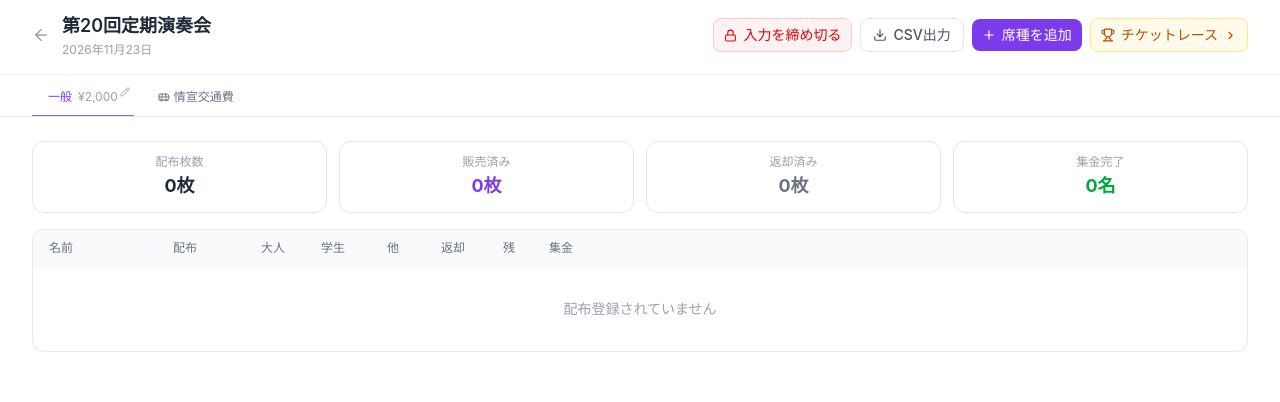
Test case: TicketDetailPage（締切バナー・締切/再開ボタン） › 「入力を締め切る」クリックでcloseTicketInputが呼ばれバナーが表示される
Click the button "入力を締め切る" at (783, 35), box [713,18,852,52]
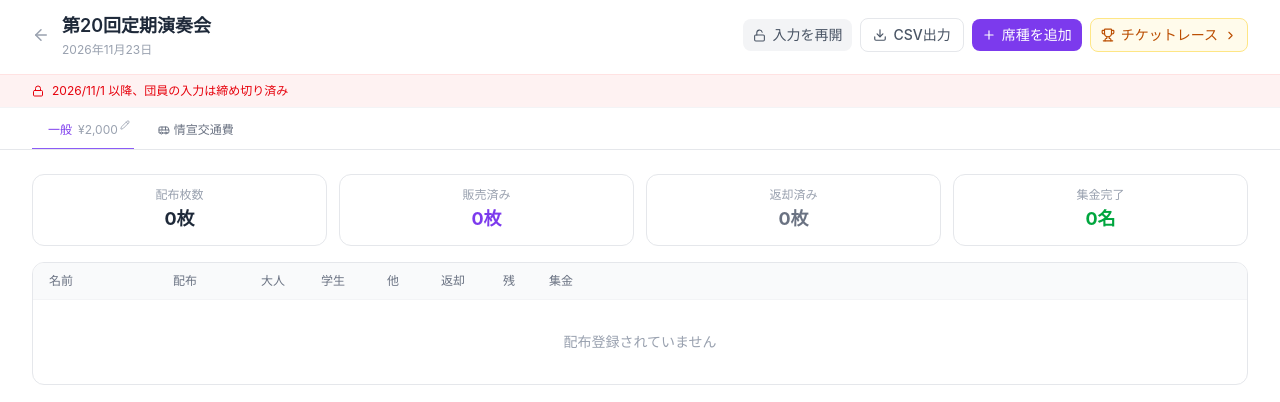
Check: the text "2026/11/1 以降、団員の入力は締め切り済み" is shown, box [32,83,288,98]
Check: the text "入力を再開" is shown, box [772,25,842,45]
